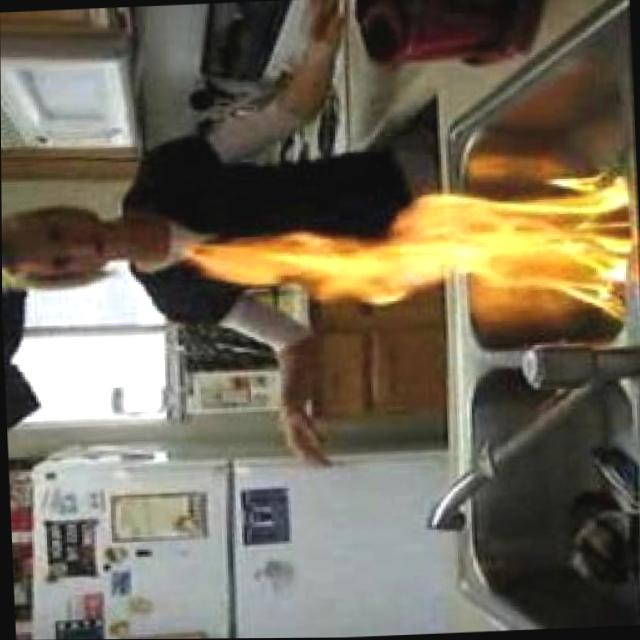helmet: (190, 179, 630, 327)
